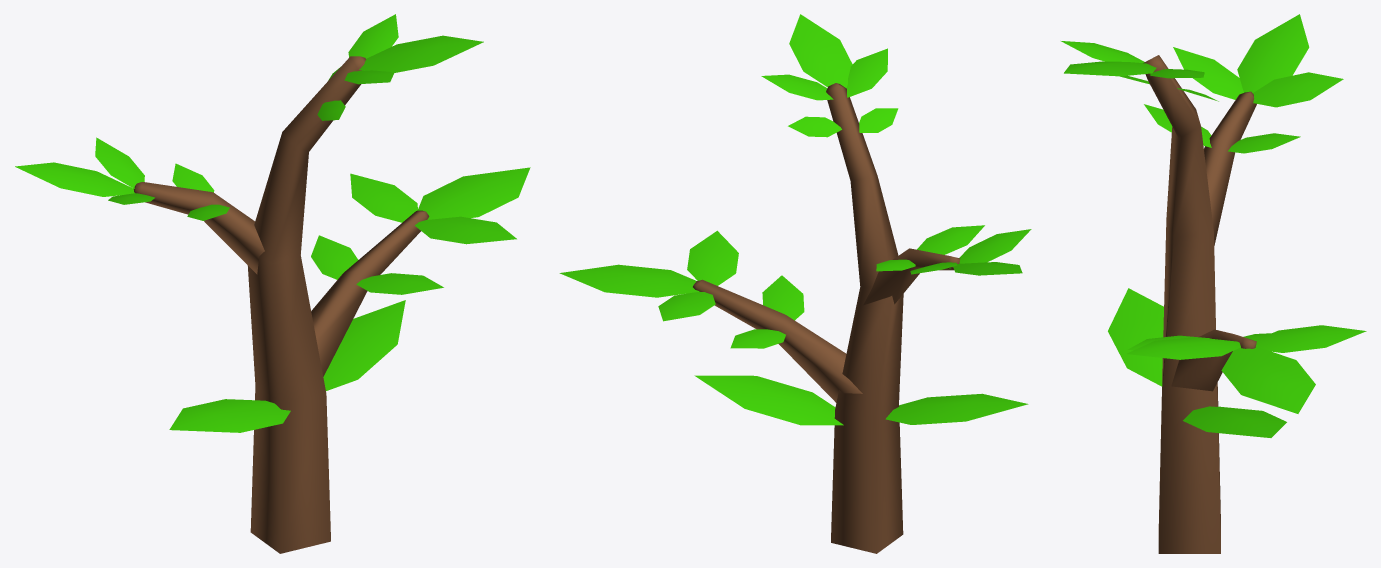
The model's file is PlantGrowth4.fbx.
3 views of the same model, side by side, from view 1: azimuth 30°, elevation 25°; view 2: azimuth 150°, elevation 25°; view 3: azimuth 270°, elevation 25° (orthographic). The views are drawn at different scales.
Visible parts, largest first — view 1: PlantGrowth4; view 2: PlantGrowth4; view 3: PlantGrowth4.
Boxes of the visible parts, bbox=[...] form: PlantGrowth4: bbox=[15, 14, 530, 553]; PlantGrowth4: bbox=[559, 14, 1031, 553]; PlantGrowth4: bbox=[1061, 14, 1366, 553].
Size of the model in its own units: 199 by 187 by 96.91.
